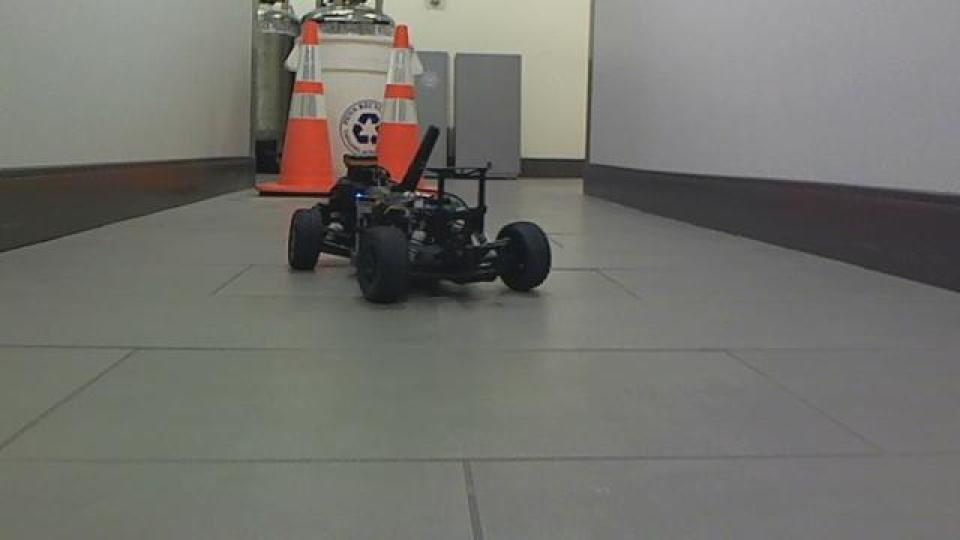car: (284, 122, 554, 306)
